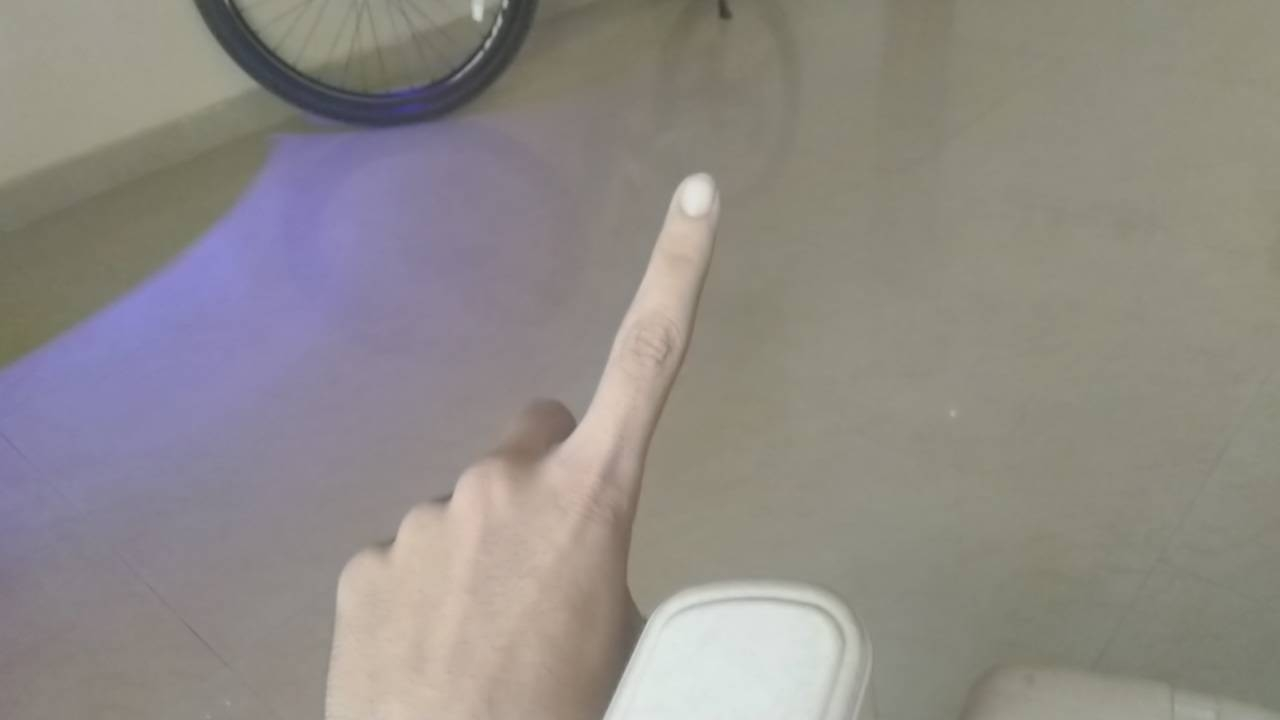fingertip: (660, 164, 728, 224)
